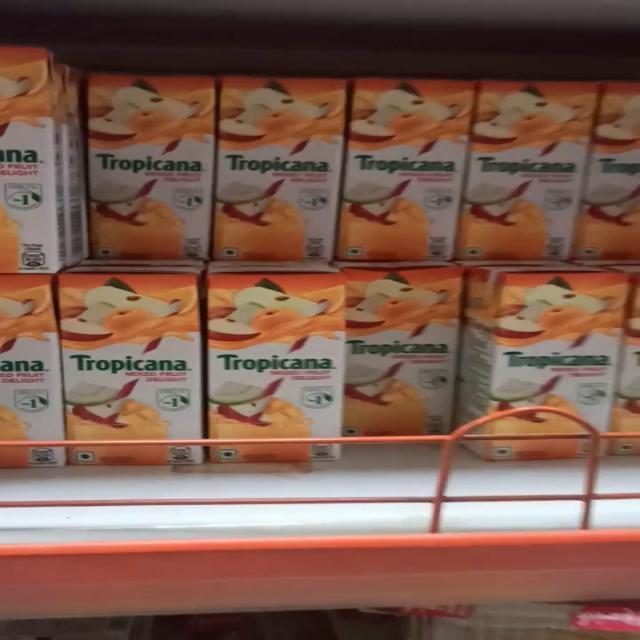Tropicana: (45, 257, 203, 464), (211, 255, 355, 462), (354, 250, 481, 460), (207, 65, 349, 252), (498, 272, 634, 460), (349, 66, 478, 260), (79, 62, 211, 250), (478, 72, 608, 254)
